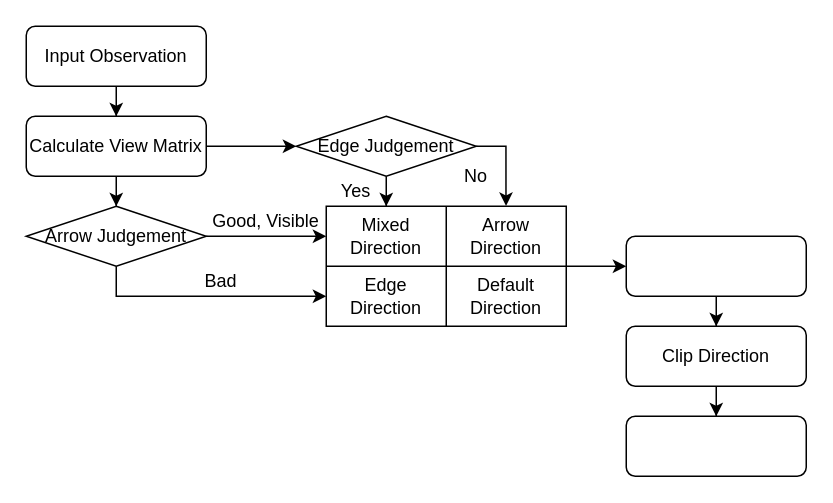
The diagram is 833 pixels wide and 503 high, and some of its shapes have lost their labels. Each missing label, with the centre of its shape:
"Map Direction to Magnitude" belongs at pixel 715 265.
"Output Action" belongs at pixel 715 445.
